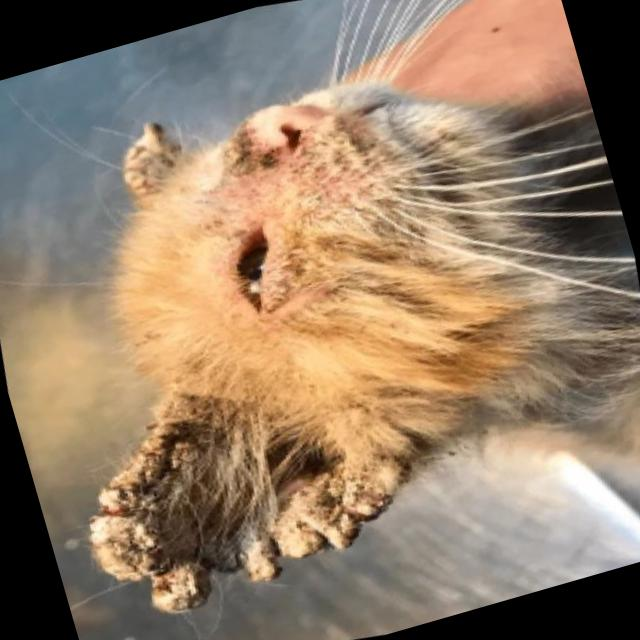Mange: (86, 417, 402, 613), (97, 96, 200, 208), (220, 158, 306, 222), (209, 113, 273, 185), (306, 158, 362, 207), (262, 230, 292, 302)
